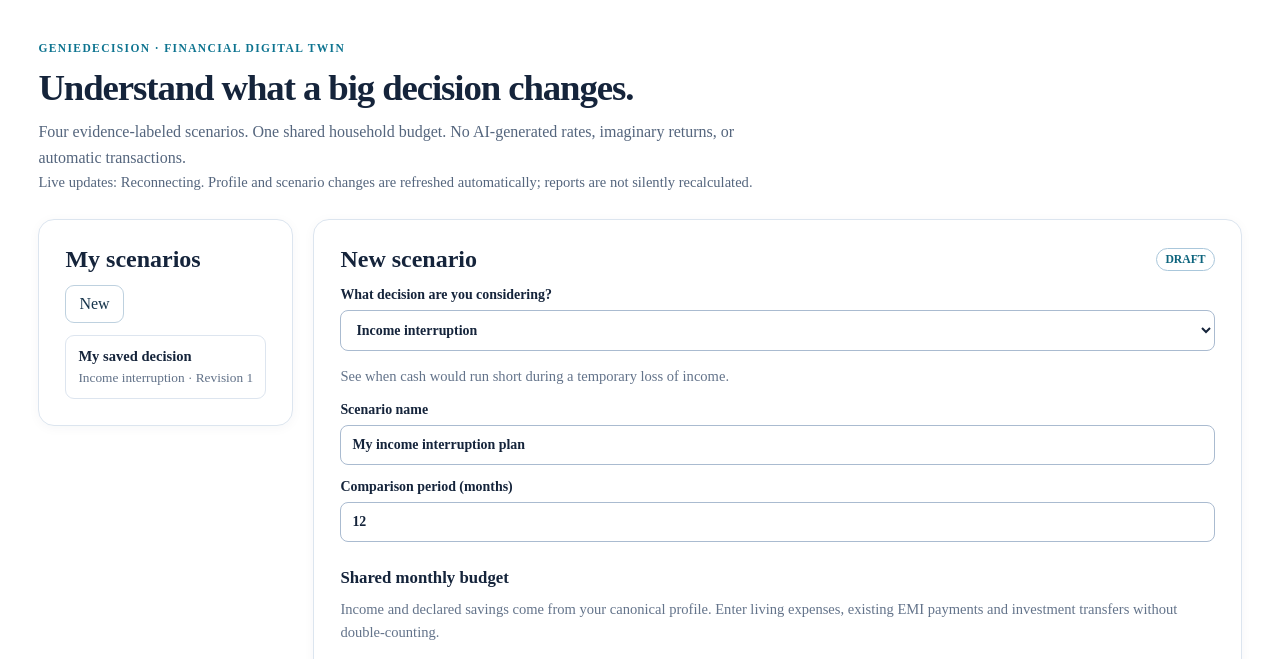
GenieDecision workspace red-team integration › never displays a forged result when reassessment asks for a new budget
Click the button "My saved decision Income interruption · Revision 1": (166, 367) [65, 335, 266, 399]
(page scrolled)
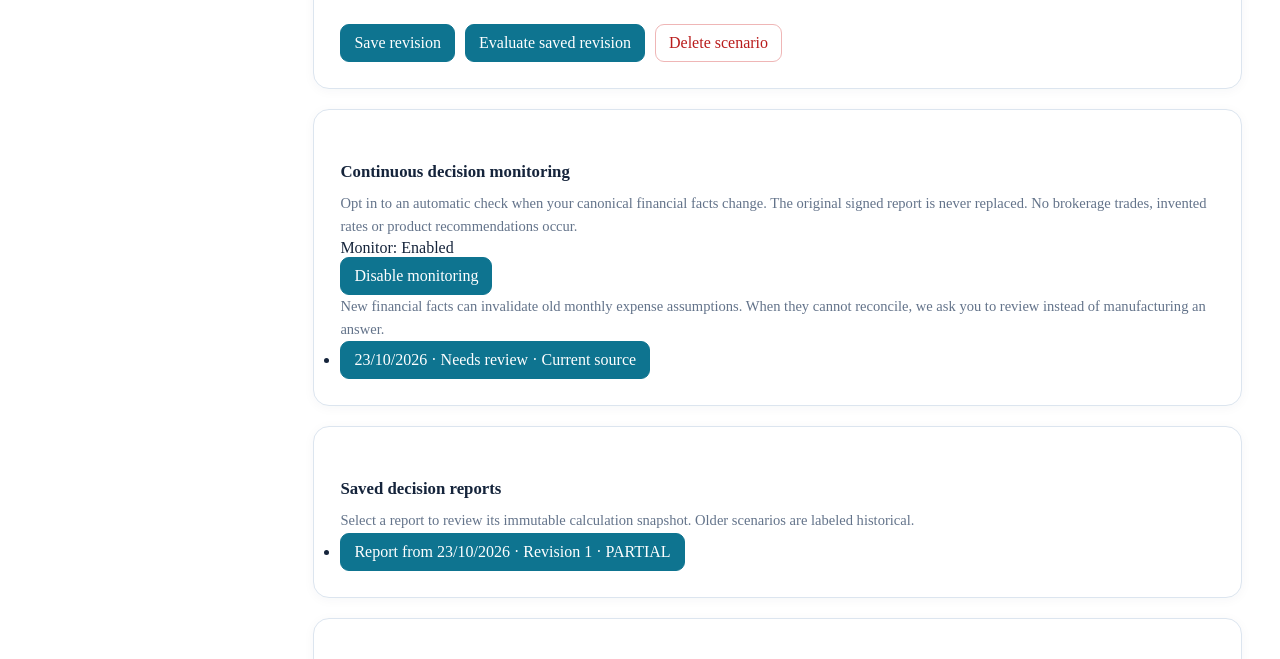
Click the button "23/10/2026 · Needs review · Current source": (495, 360) [340, 341, 650, 379]
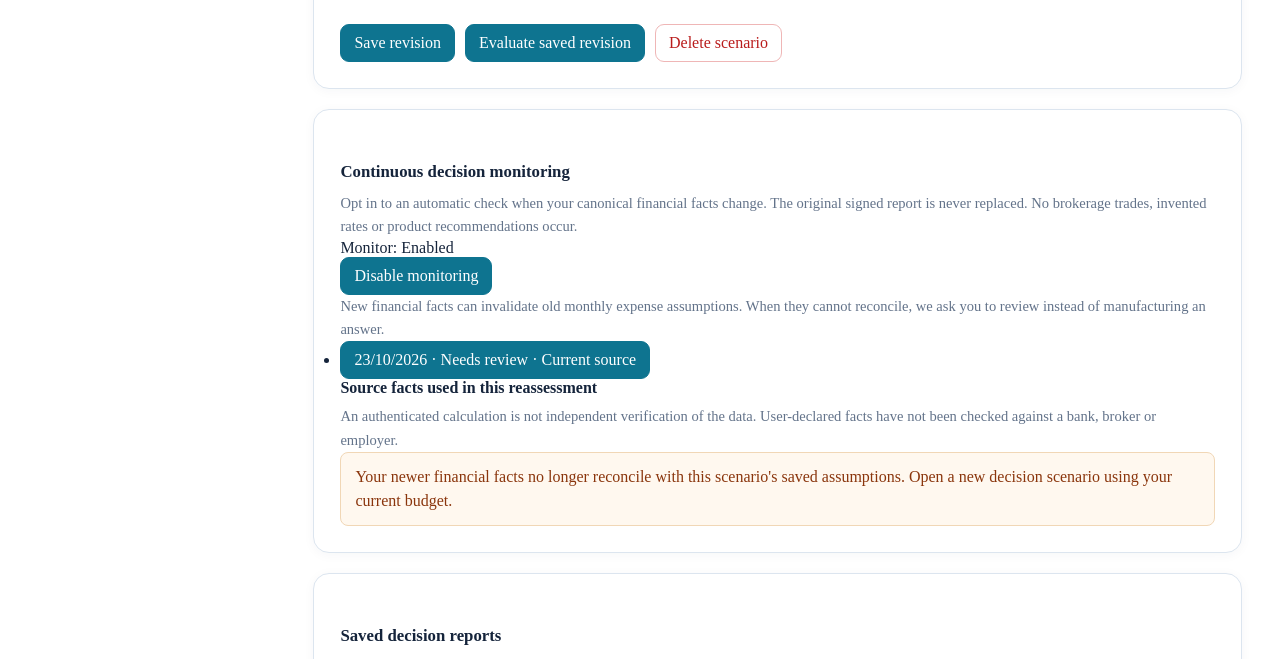
Expected: the text "Your newer financial facts no longer reconcile" is shown, [355, 468, 1172, 509]
